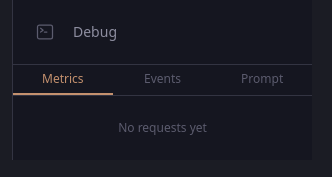
Test case: ObservabilityPane — Events tab (with data) › renders event rows with timestamp, type badge, and payload
The width and height of the screenshot is (332, 177).
Click the tab "Events".
click(163, 80)  # box [113, 65, 212, 95]
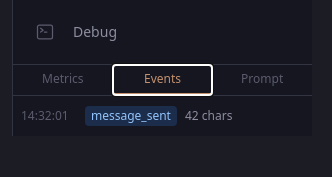
Result: the text with test id "event-timestamp" reads "14:32:01" at [21, 107, 69, 124]
Result: the text with test id "event-type" reads "message_sent" at [91, 107, 171, 124]
Result: the text with test id "event-payload" reads "42 chars" at [185, 107, 232, 124]
